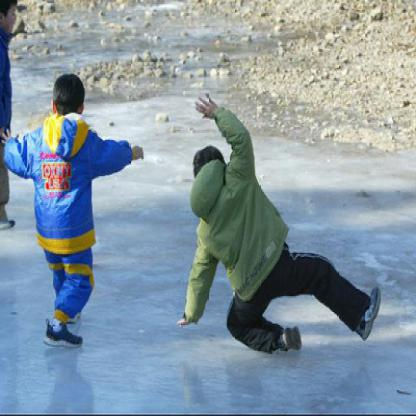Fall_Down: (175, 95, 382, 351)
